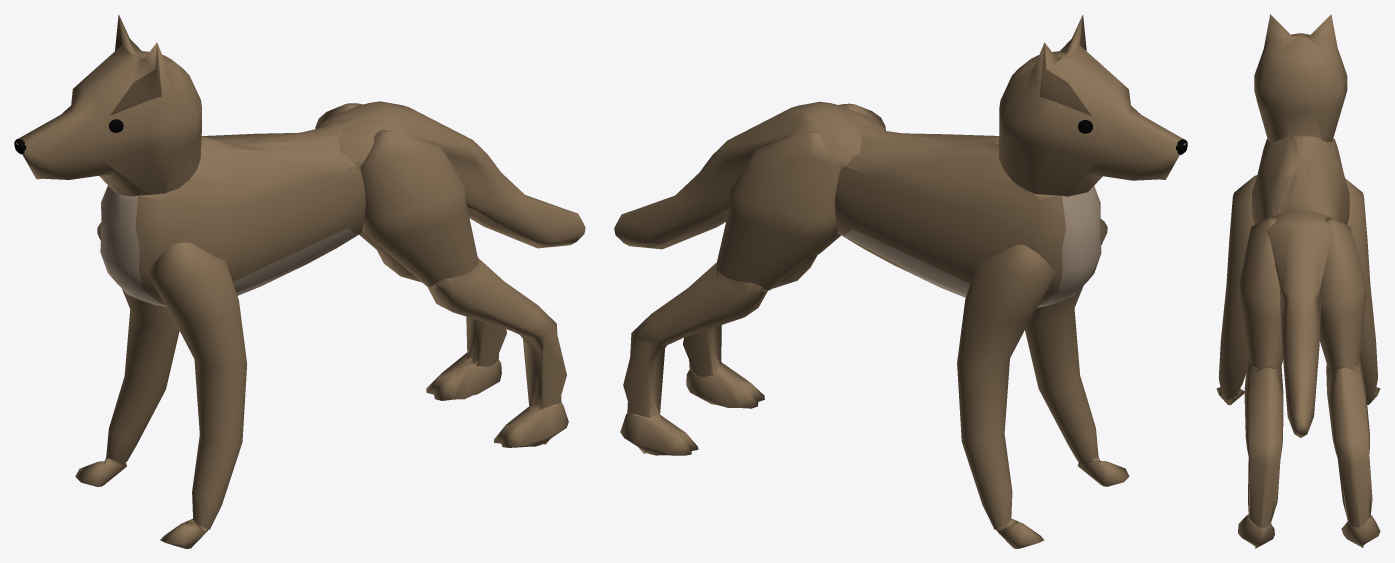
File: coyote.fbx
3 renders of one model, left to right at view 1: azimuth 30°, elevation 25°; view 2: azimuth 150°, elevation 25°; view 3: azimuth 270°, elevation 25°, orthographic. The views are drawn at different scales.
Parts seen in each view (by area): view 1: pSphere18, pSphere6, pSphere11, pSphere12, pSphere7; view 2: pSphere18, pSphere7, pSphere12, pSphere11, pSphere6; view 3: pSphere18, pSphere7, pSphere6, pSphere11, pSphere12.
Part boxes in pixels (box(x1,y1,x2,y2)): pSphere18: box(16, 14, 585, 306); pSphere6: box(360, 130, 568, 447); pSphere11: box(147, 242, 246, 548); pSphere12: box(75, 222, 179, 486); pSphere7: box(315, 103, 506, 400); pSphere18: box(614, 15, 1185, 307); pSphere7: box(620, 131, 840, 455); pSphere12: box(957, 244, 1055, 548); pSphere11: box(1025, 219, 1129, 486); pSphere6: box(683, 103, 885, 408); pSphere18: box(1252, 14, 1349, 437); pSphere7: box(1319, 217, 1380, 547); pSphere6: box(1238, 217, 1283, 548); pSphere11: box(1216, 175, 1257, 405); pSphere12: box(1345, 178, 1380, 404).
Bounding box in the file's own units: 5.01 × 4.13 × 1.58.
